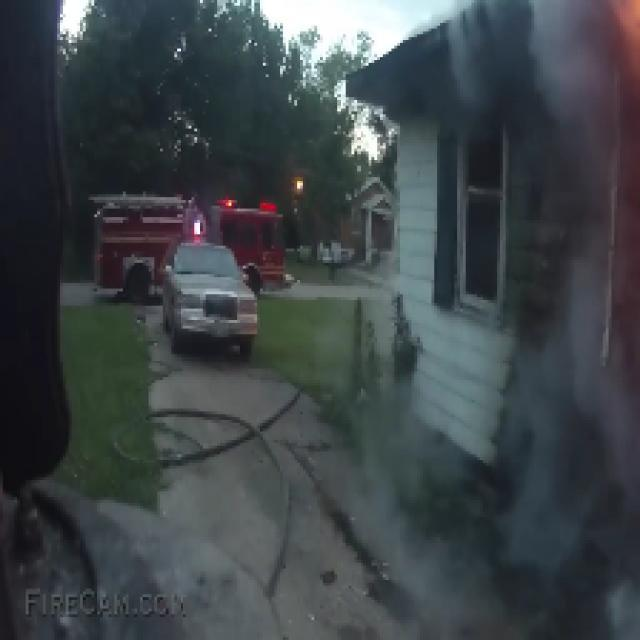Smoke: (486, 11, 620, 586)
